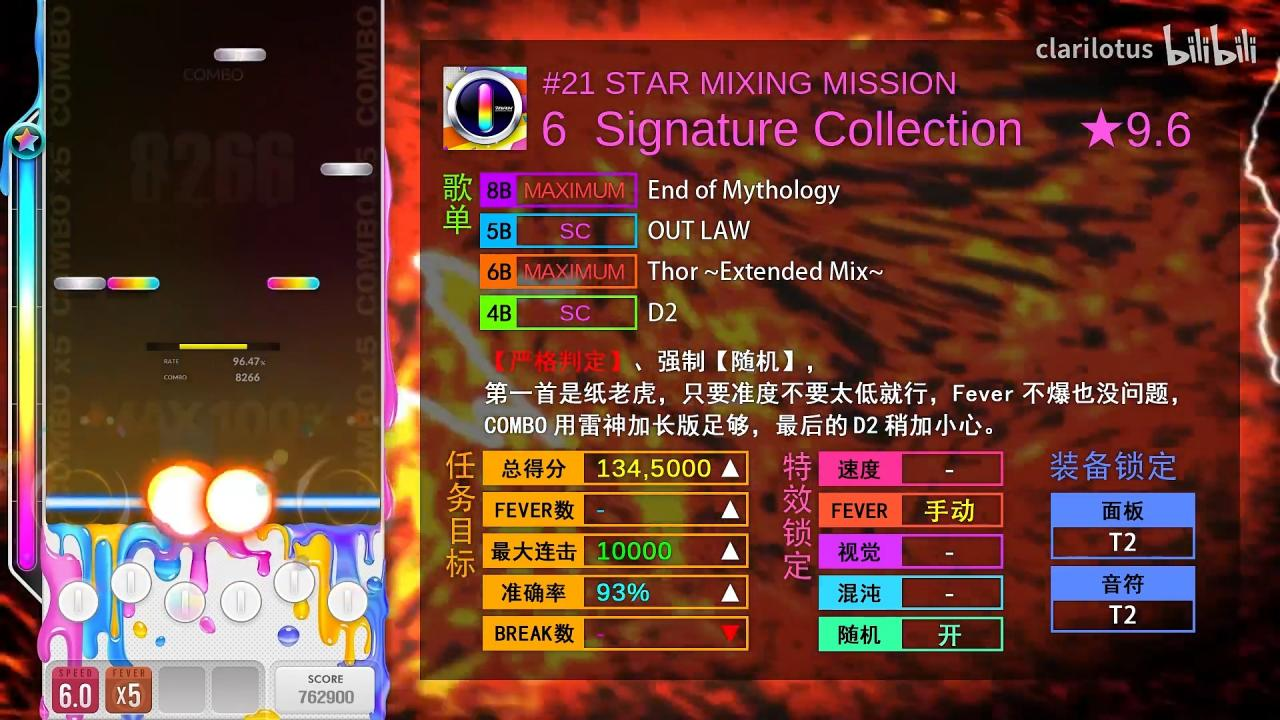note: (107, 276, 160, 291), (214, 48, 266, 62), (54, 276, 106, 290), (321, 163, 373, 176), (267, 277, 319, 290)
